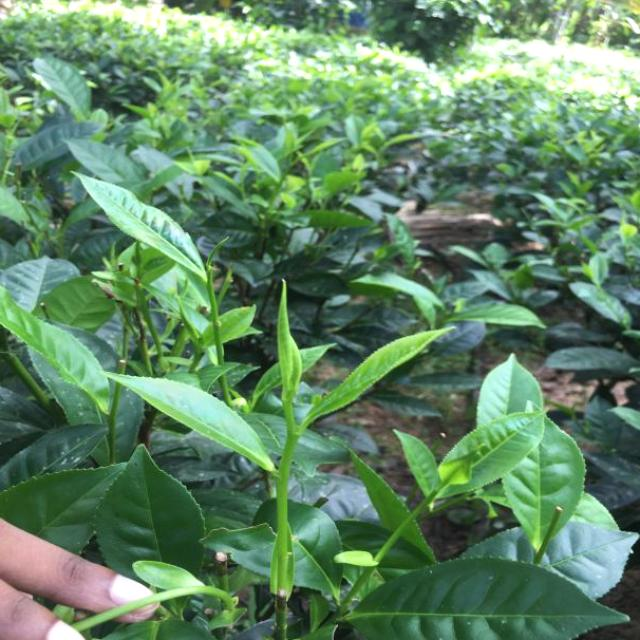Stem: (287, 432, 300, 443), (108, 417, 116, 426)
